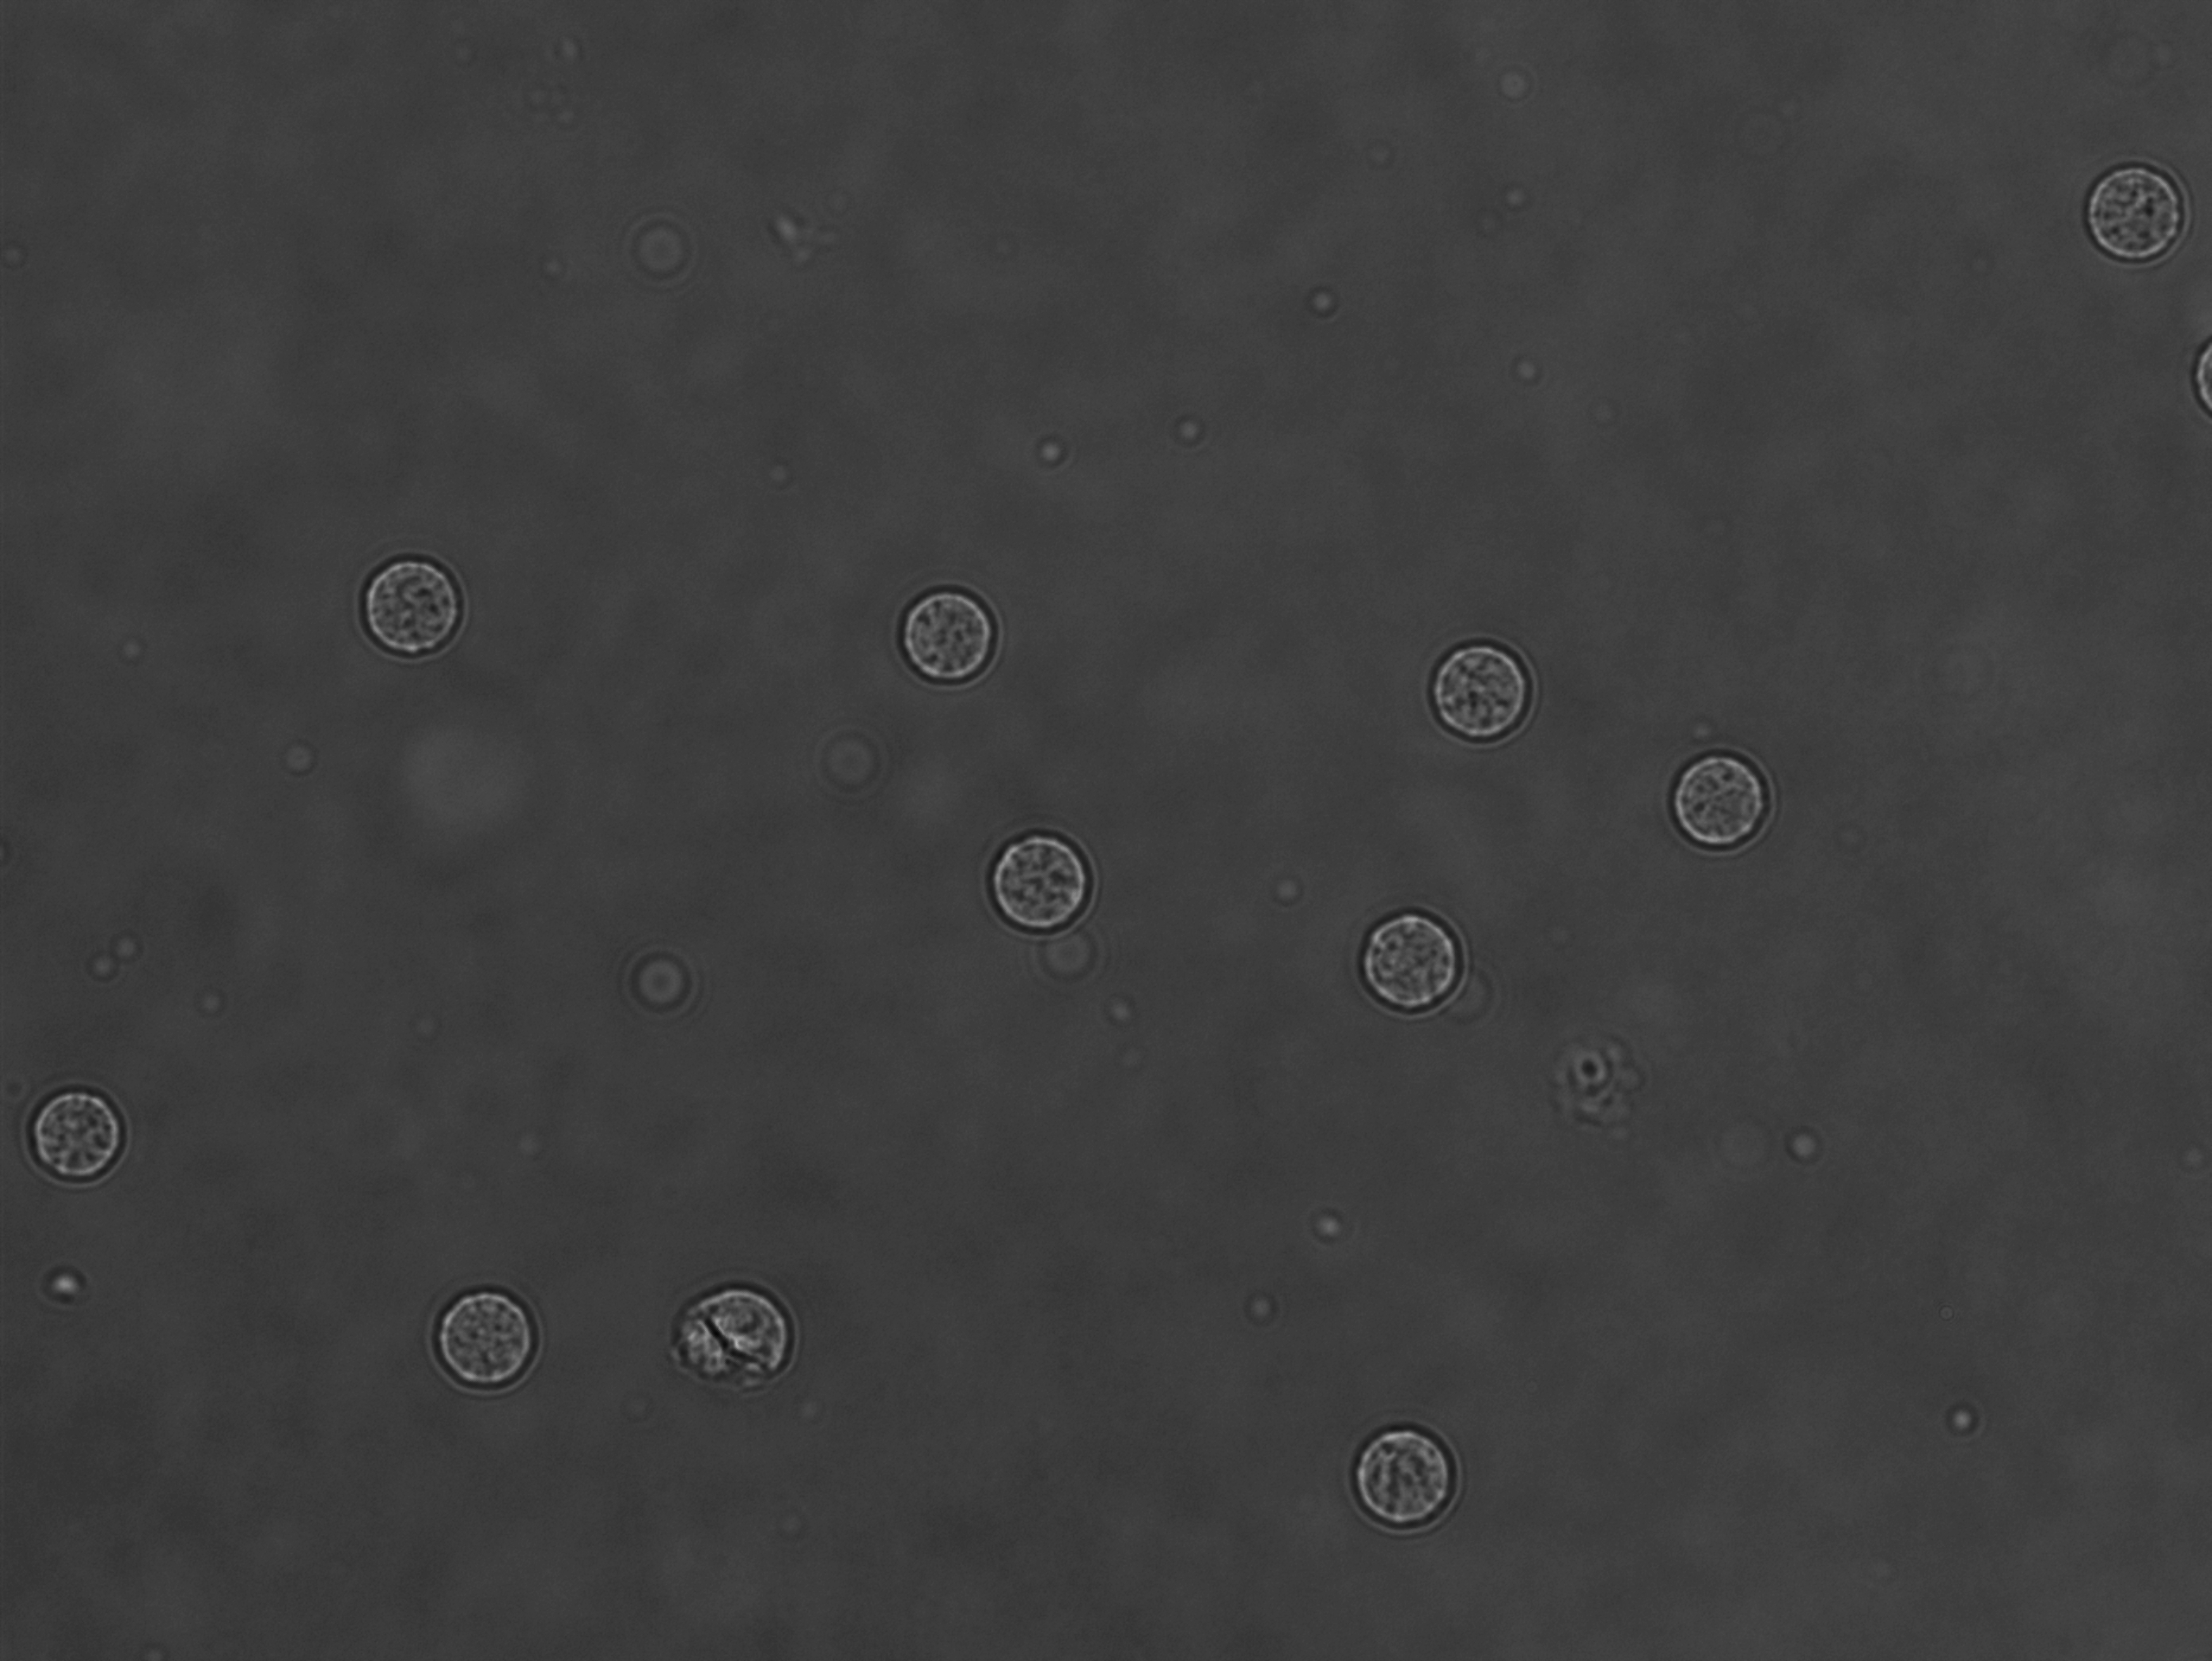depth:0: (1338, 1392, 1492, 1558), (16, 1063, 152, 1213), (881, 572, 1021, 705), (351, 525, 476, 670), (1350, 893, 1485, 1022), (1413, 626, 1546, 755), (2074, 152, 2202, 286), (424, 1272, 558, 1399), (979, 811, 1106, 940), (1657, 731, 1781, 862)
